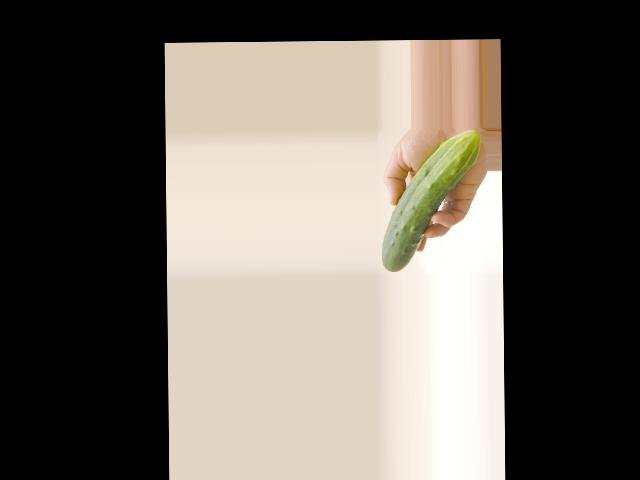cucumber: (381, 130, 482, 272)
